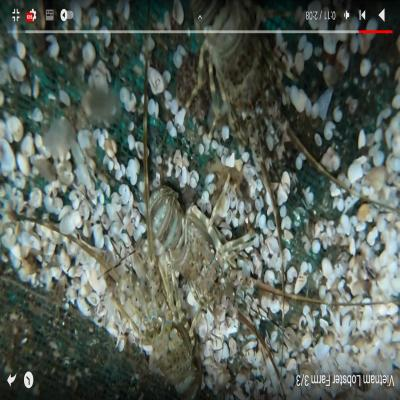lobster: (206, 35, 292, 166), (167, 193, 249, 316), (130, 274, 200, 390)
